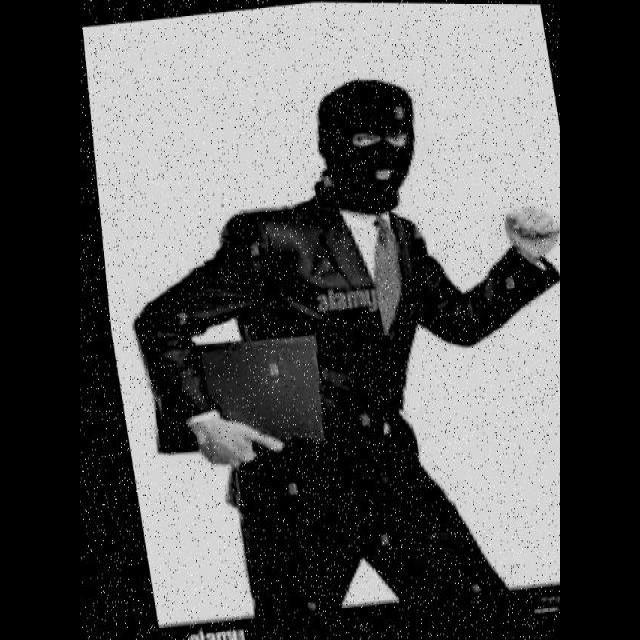6_pasamontana: (317, 80, 416, 217)
